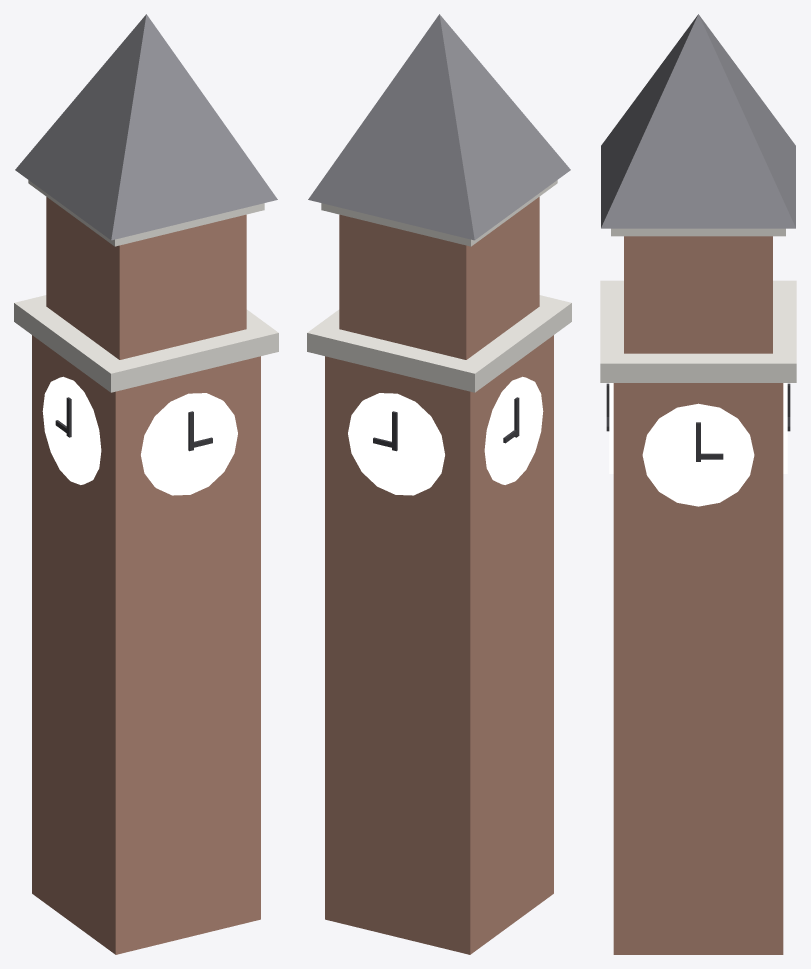
The model's file is clock_tower.glb.
3 views of the same model, side by side, from view 1: azimuth 30°, elevation 25°; view 2: azimuth 150°, elevation 25°; view 3: azimuth 270°, elevation 25° (orthographic).
Parts seen in each view (by area): view 1: clock_tower; view 2: clock_tower; view 3: clock_tower.
Part boxes in pixels (x1,y1,x2,y2): clock_tower: (14, 14, 278, 954); clock_tower: (307, 14, 571, 954); clock_tower: (600, 14, 796, 954).
Size of the model in its own units: 3.7 by 18.8 by 3.7.
